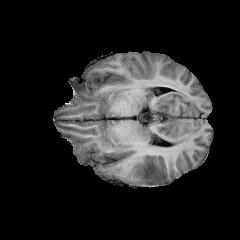glioma: (134, 160, 165, 183)
